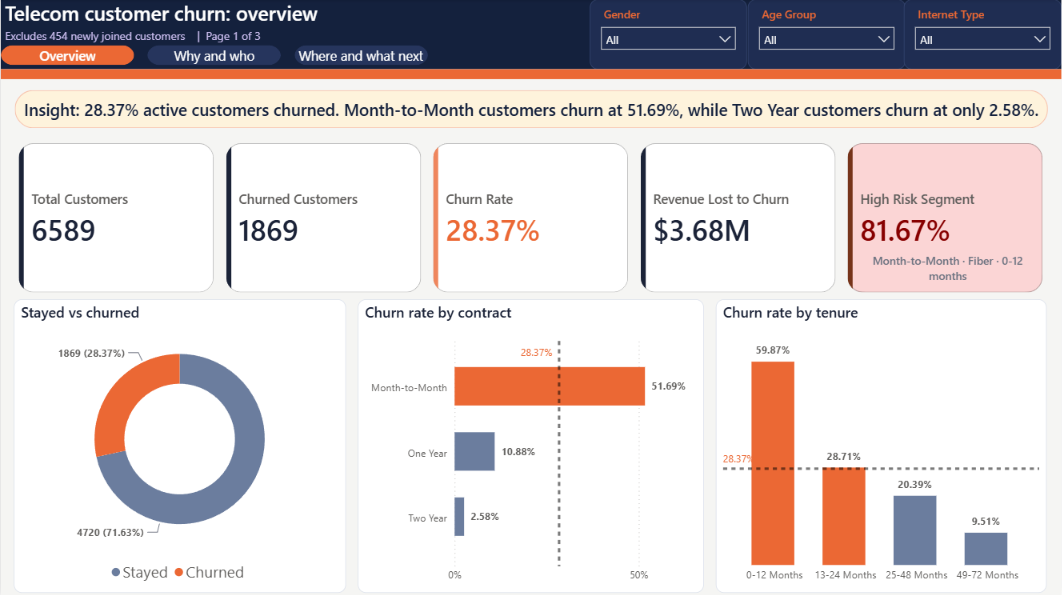

Layout of this report page (visuals, bound fields, positions):
{"tool":"powerbi","page":{"name":"Overview","canvas":[1280,720],"ordinal":0},"visuals":[{"type":"donutChart","title":"Stayed vs churned","fields":{"Category":["telecom_churn_cleaned.customer_status"],"Y":["telecom_churn_cleaned.Total Customers"]},"box":[15.7,361.9,400.5,354.7],"z":0},{"type":"shape","box":[0,0,1280,85],"z":1000},{"type":"textbox","title":"Telecom customer churn: overview","box":[16.9,0,558.6,55.5],"z":2000},{"type":"clusteredBarChart","title":"Churn rate by contract","fields":{"Category":["telecom_churn_cleaned.contract"],"Y":["telecom_churn_cleaned.Churn Rate"]},"box":[430.7,361.9,417.4,354.7],"z":3000},{"type":"slicer","fields":{"Values":["telecom_churn_cleaned.gender"]},"box":[710.6,0,189.4,84.5],"z":4000},{"type":"clusteredColumnChart","title":"Churn rate by tenure","fields":{"Y":["telecom_churn_cleaned.Churn Rate"],"Category":["telecom_churn_cleaned.tenure_group"]},"box":[862.6,361.9,399.3,354.7],"z":5000},{"type":"slicer","fields":{"Values":["telecom_churn_cleaned.age_group"]},"box":[901.2,0,190.6,84.5],"z":6000},{"type":"slicer","fields":{"Values":["telecom_churn_cleaned.internet_type"]},"box":[1089.4,0,190.6,84.5],"z":7000},{"type":"cardVisual","fields":{"Data":["telecom_churn_cleaned.Total Customers","telecom_churn_cleaned.Churned Customers","telecom_churn_cleaned.Churn Rate","telecom_churn_cleaned.Revenue Lost to Churn","telecom_churn_cleaned.High Risk Churn Rate"]},"box":[16.9,168.9,1245,190.6],"z":8000},{"type":"shape","box":[16.9,109.8,1246.3,45.8],"z":9000},{"type":"pageNavigator","box":[16.9,60.3,516.4,24.1],"z":10000},{"type":"shape","title":"Month-to-Month · Fiber · 0-12 months","box":[1036.3,306.4,212.3,42.2],"z":11000},{"type":"shape","box":[0,84.5,1280,12.1],"z":12000}]}

Visuals, with their boxes in screenshot pixels (x1, y1, x2, y2), scaled from the page's 1280x720 canvas onto the 1062x595 screenshot:
"Stayed vs churned" donutChart: rect(13, 299, 345, 592)
shape: rect(0, 0, 1061, 70)
"Telecom customer churn: overview" textbox: rect(14, 0, 477, 46)
"Churn rate by contract" clusteredBarChart: rect(357, 299, 704, 592)
slicer - telecom_churn_cleaned.gender: rect(590, 0, 747, 70)
"Churn rate by tenure" clusteredColumnChart: rect(716, 299, 1047, 592)
slicer - telecom_churn_cleaned.age_group: rect(748, 0, 906, 70)
slicer - telecom_churn_cleaned.internet_type: rect(904, 0, 1061, 70)
cardVisual - telecom_churn_cleaned.Total Customers x telecom_churn_cleaned.Churned Customers: rect(14, 140, 1047, 297)
shape: rect(14, 91, 1048, 129)
pageNavigator: rect(14, 50, 442, 70)
"Month-to-Month · Fiber · 0-12 months" shape: rect(860, 253, 1036, 288)
shape: rect(0, 70, 1061, 80)
